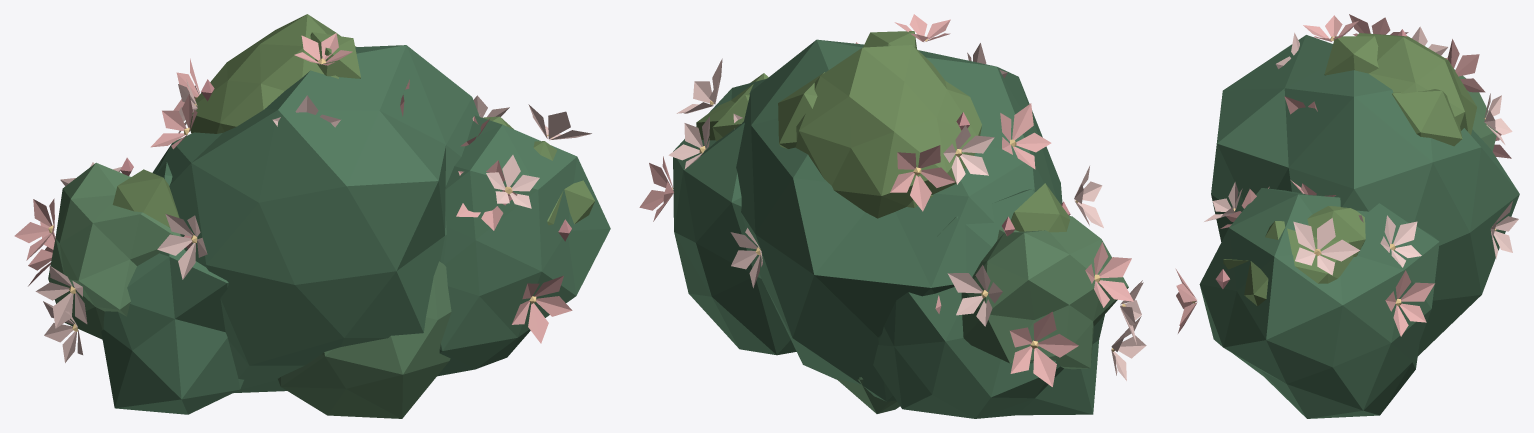
The model's file is azalea_bush.glb.
3 renders of one model, left to right at view 1: azimuth 30°, elevation 25°; view 2: azimuth 150°, elevation 25°; view 3: azimuth 270°, elevation 25°, orthographic. The views are drawn at different scales.
Visible parts, largest first — view 1: azalea_bush; view 2: azalea_bush; view 3: azalea_bush.
Boxes of the visible parts, x1,y1,x2,y2 form: azalea_bush: [14, 14, 610, 418]; azalea_bush: [639, 14, 1146, 418]; azalea_bush: [1175, 14, 1519, 418].
Size of the model in its own units: 1.75 by 1.26 by 1.12.
